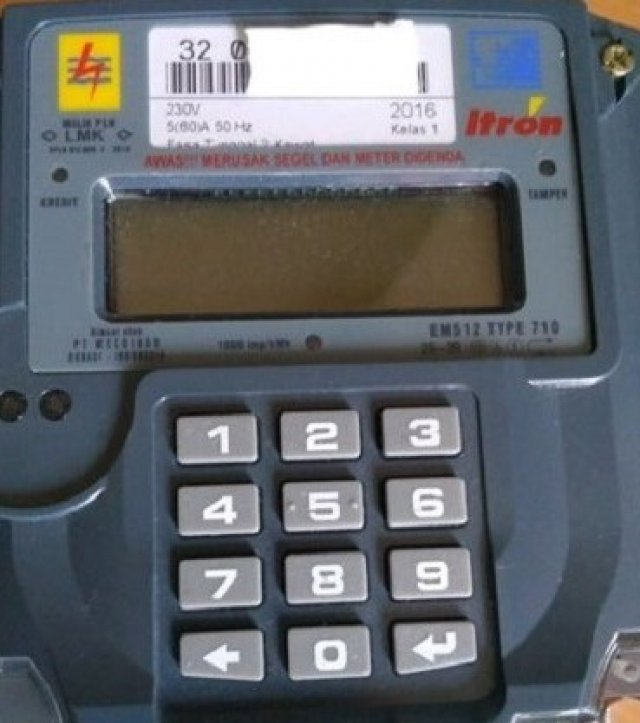box: (101, 187, 523, 314)
